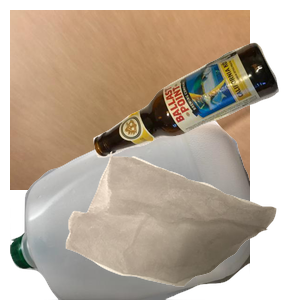cardboard: (10, 10, 250, 190)
glass: (91, 40, 300, 190)
plastic: (10, 120, 250, 300)
trash: (63, 149, 300, 300)
